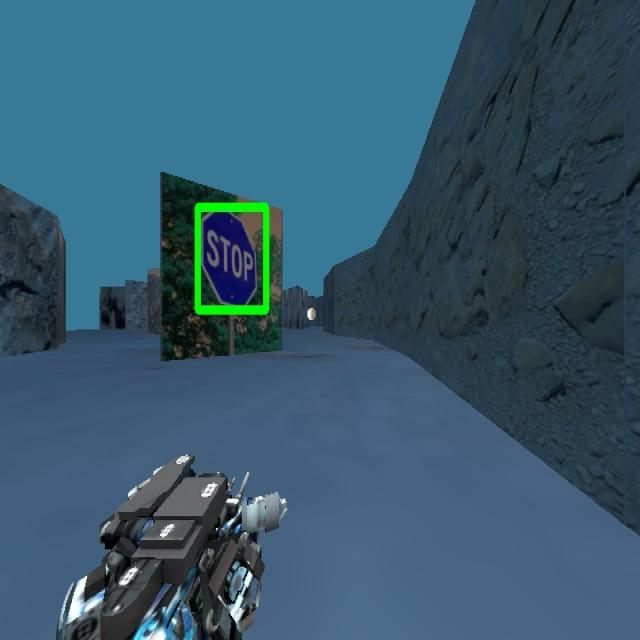Circle: (308, 305, 316, 320)
Stop_Sign: (193, 200, 270, 316)
